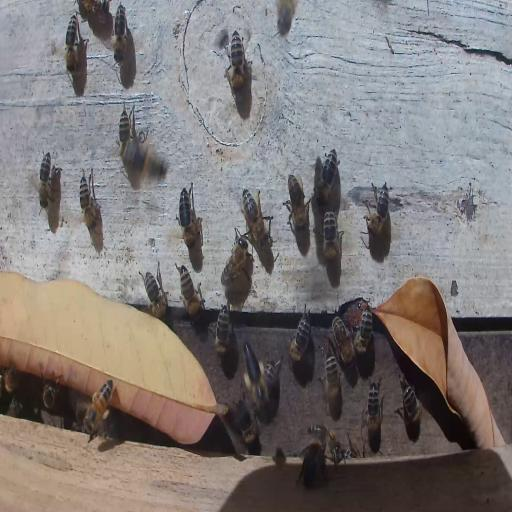nonpollenbee: (122, 138, 168, 182), (296, 437, 328, 491), (241, 188, 270, 246), (222, 231, 252, 284), (177, 184, 200, 250), (76, 171, 99, 237), (365, 180, 391, 236), (314, 148, 338, 205), (287, 174, 310, 232), (398, 377, 423, 430), (178, 266, 203, 319), (288, 310, 312, 364), (365, 374, 384, 442), (142, 267, 168, 314), (322, 350, 342, 411), (332, 318, 355, 368), (321, 209, 343, 260), (355, 302, 373, 360), (118, 103, 134, 168), (210, 303, 230, 352), (229, 28, 244, 93), (111, 4, 127, 64), (308, 423, 340, 452), (240, 410, 260, 451), (65, 14, 77, 74), (39, 150, 51, 208), (277, 0, 294, 35), (42, 382, 60, 412), (3, 367, 20, 395), (7, 396, 23, 416)
pollenbee: (243, 339, 270, 411), (83, 380, 114, 436)
